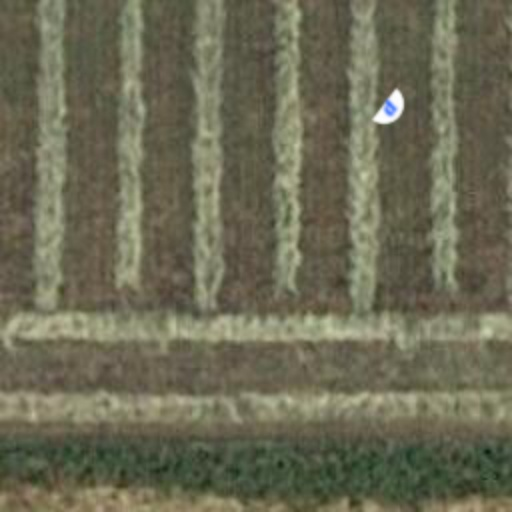semicircle: (364, 82, 420, 138)
